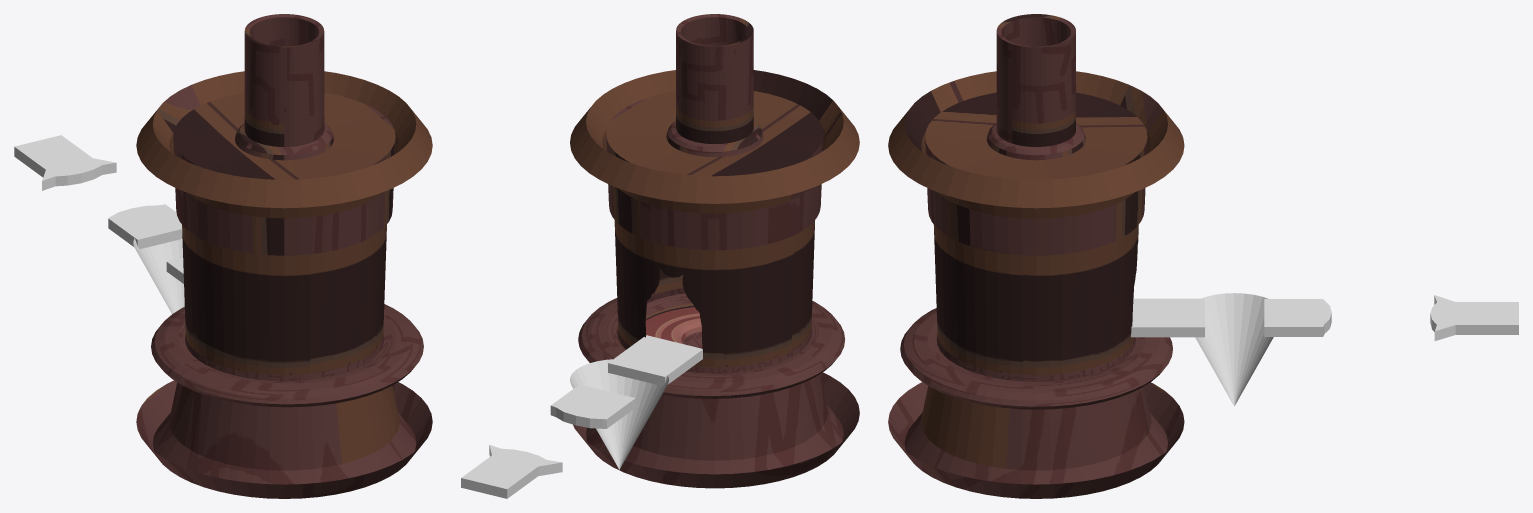
The model's file is forbidden-temple.glb.
3 renders of one model, left to right at view 1: azimuth 30°, elevation 25°; view 2: azimuth 150°, elevation 25°; view 3: azimuth 270°, elevation 25°, orthographic. The views are drawn at different scales.
Visible parts, largest first — view 1: Wall, Platform Tunnel, Outer Rim, Floor 1, Floor 2; view 2: Wall, Platform Tunnel, Floor 1, Outer Rim, Floor 2, Floor, Initial Platform; view 3: Wall, Platform Tunnel, Floor 1, Outer Rim, Floor 2.
Boxes of the visible parts, x1,y1,x2,y2 form: Wall: (136,71,432,498); Platform Tunnel: (173,14,395,255); Outer Rim: (151,304,423,407); Floor 1: (108,204,184,313); Floor 2: (14,135,116,190); Wall: (570,70,859,488); Platform Tunnel: (606,14,823,250); Floor 1: (550,335,702,469); Outer Rim: (578,293,845,398); Floor 2: (461,445,562,498); Floor: (645,307,699,338); Initial Platform: (661,316,701,344); Wall: (888,71,1184,498); Platform Tunnel: (925,14,1147,255); Floor 1: (1131,293,1331,406); Outer Rim: (900,308,1172,409); Floor 2: (1430,295,1518,340).
Size of the model in its own units: 54 by 82.92 by 115.
3 materials, 3 textured.
